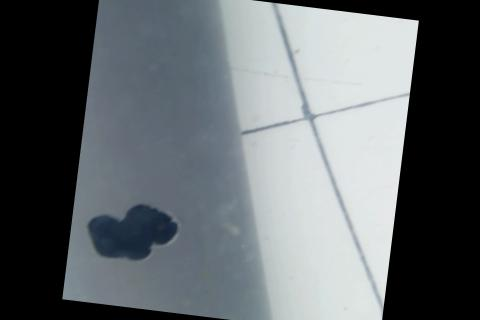kebocoran: (80, 195, 185, 268)
